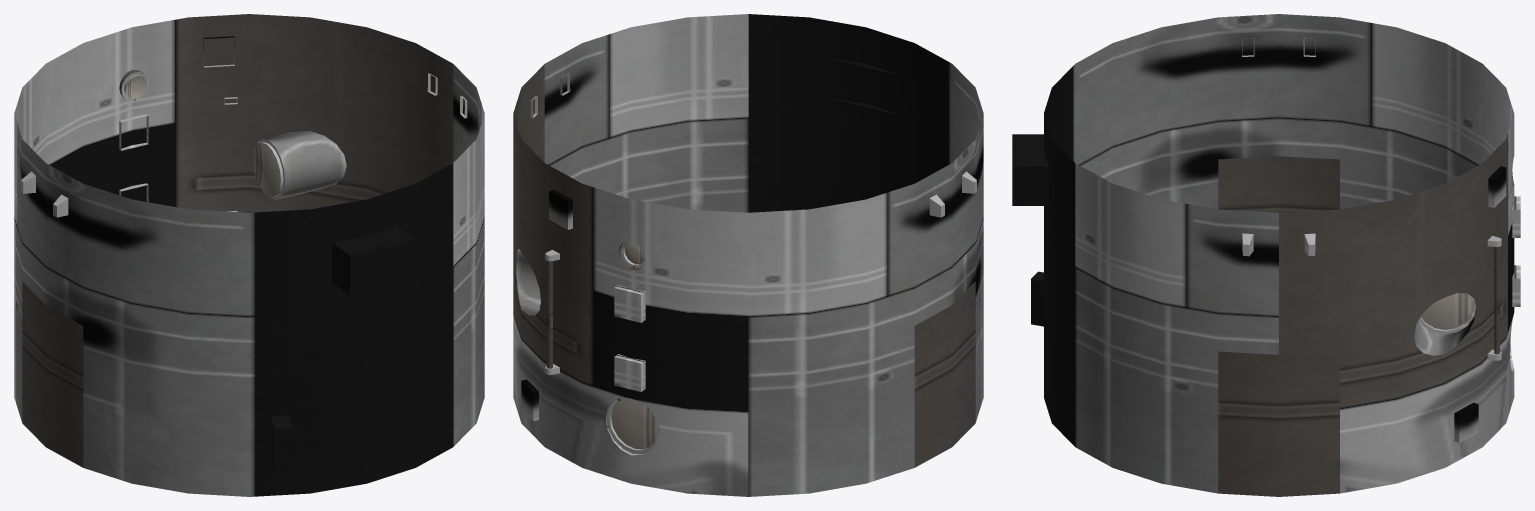
The model's file is spektr lab naked plain.obj.
The picture shows the model from 3 angles, left to right: view 1: azimuth 30°, elevation 25°; view 2: azimuth 150°, elevation 25°; view 3: azimuth 270°, elevation 25°; orthographic projection.
Visible parts, largest first — view 1: 1.008, w1.005; view 2: 1.008, w1.005; view 3: 1.008, w1.005.
Part boxes in pixels (left/top/right/bottom): 1.008: left=14, top=14, right=484, bottom=496; w1.005: left=125, top=76, right=280, bottom=197; 1.008: left=513, top=14, right=983, bottom=496; w1.005: left=611, top=242, right=658, bottom=449; 1.008: left=1012, top=14, right=1520, bottom=496; w1.005: left=1421, top=293, right=1473, bottom=329.
Bounding box in the file's own units: 1.94 × 1.25 × 2.02.
